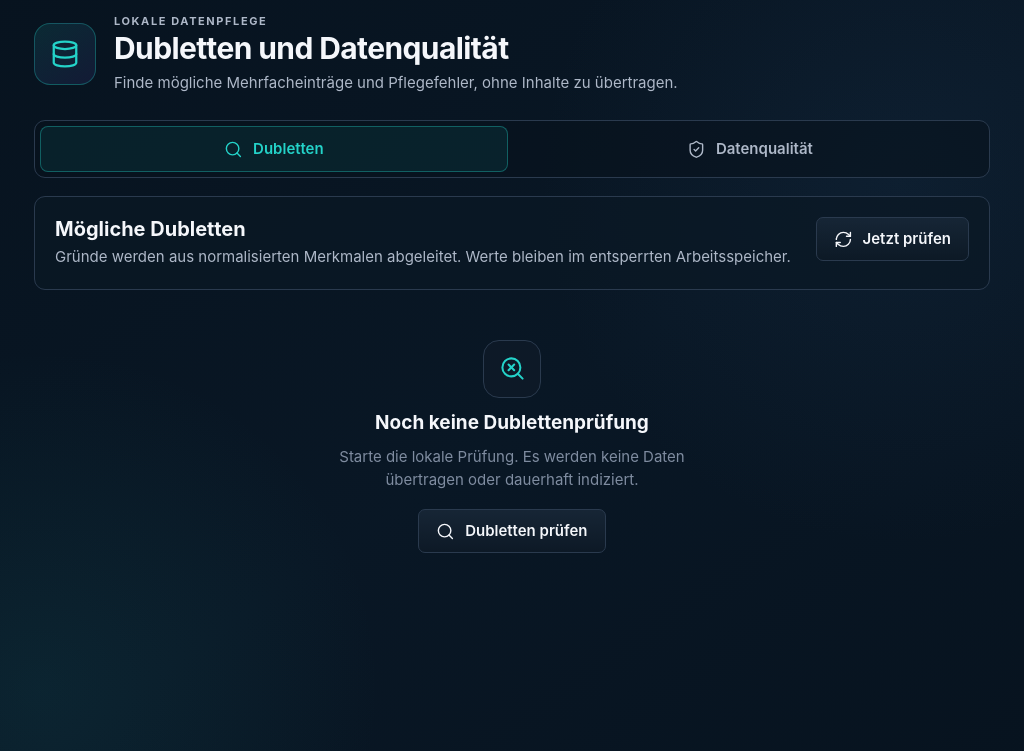
Test case: DataQualityViews › übermittelt die gewählten Skalar- und Collection-Quellen erst nach Merge-Bestätigung
Click the button "Dubletten prüfen".
click(512, 531)  # box x1=418 y1=509 x2=606 y2=553
(page scrolled)
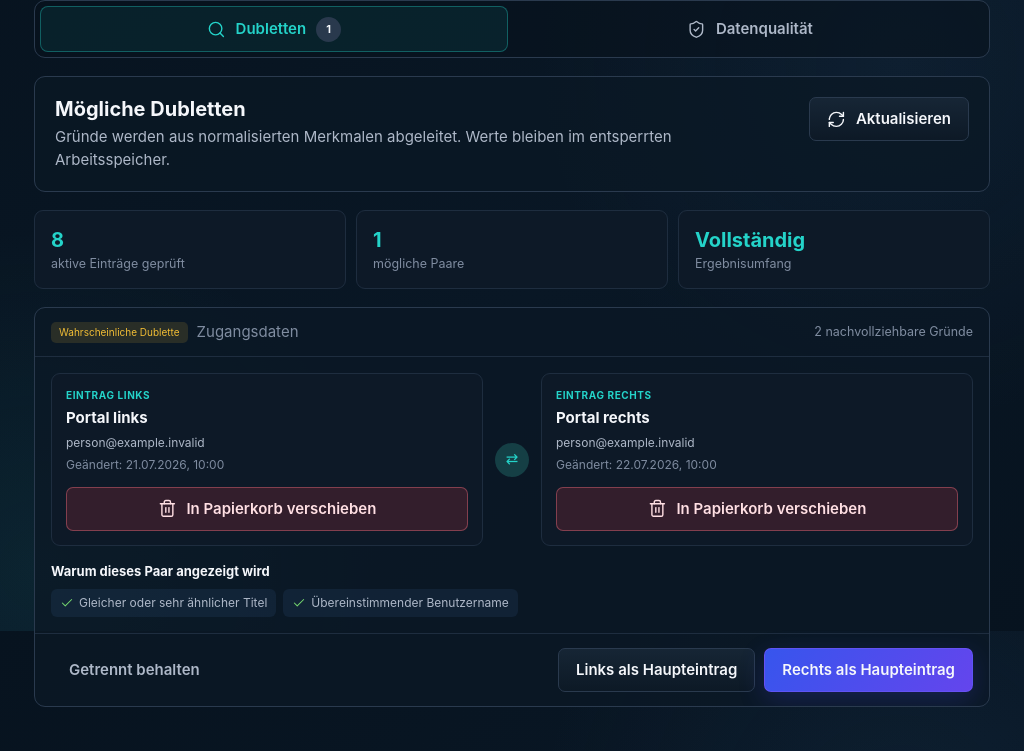
Click the button "Links als Haupteintrag".
click(657, 670)  # box x1=558 y1=648 x2=755 y2=692
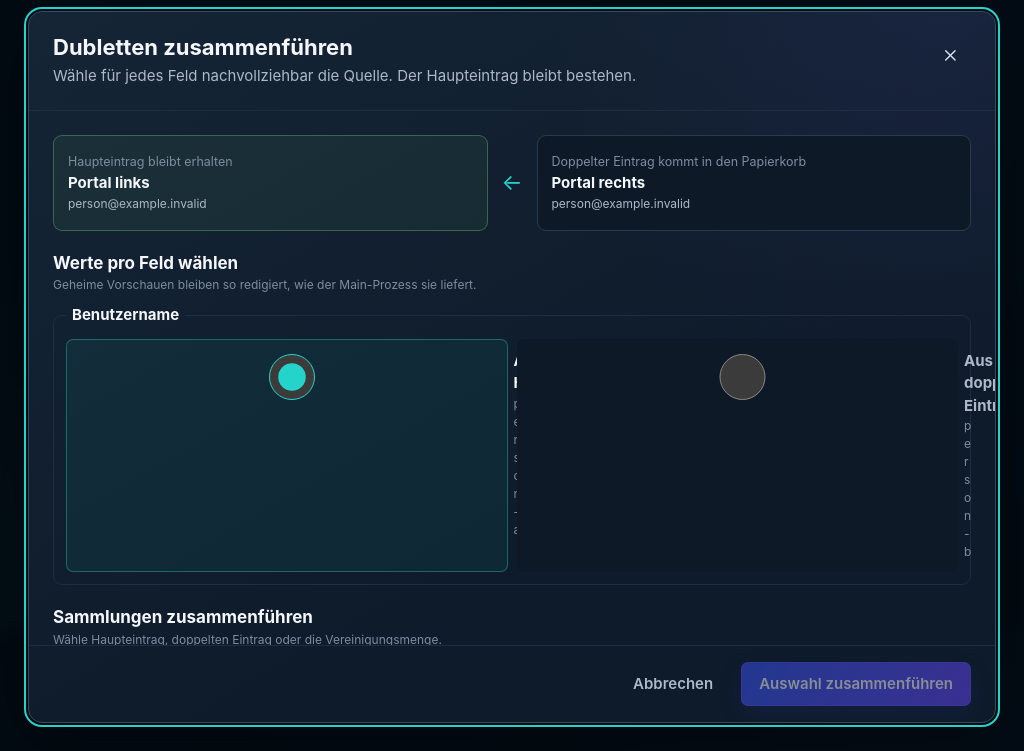
Now the button "Auswahl zusammenführen" is disabled, box x1=741 y1=662 x2=971 y2=706
Click the 2nd radio button named "Aus doppeltem Eintrag".
click(742, 377)  # box x1=532 y1=354 x2=952 y2=400
(page scrolled)
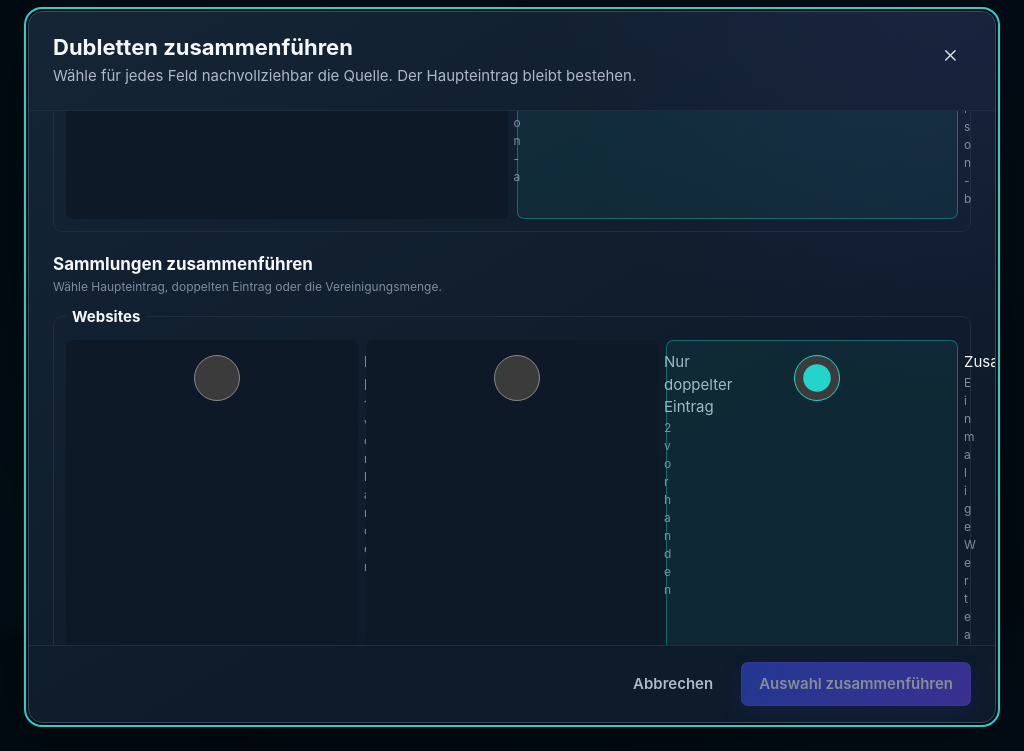
Click the 2nd radio button named "Nur doppelter Eintrag".
click(517, 378)  # box x1=382 y1=355 x2=652 y2=401
(page scrolled)
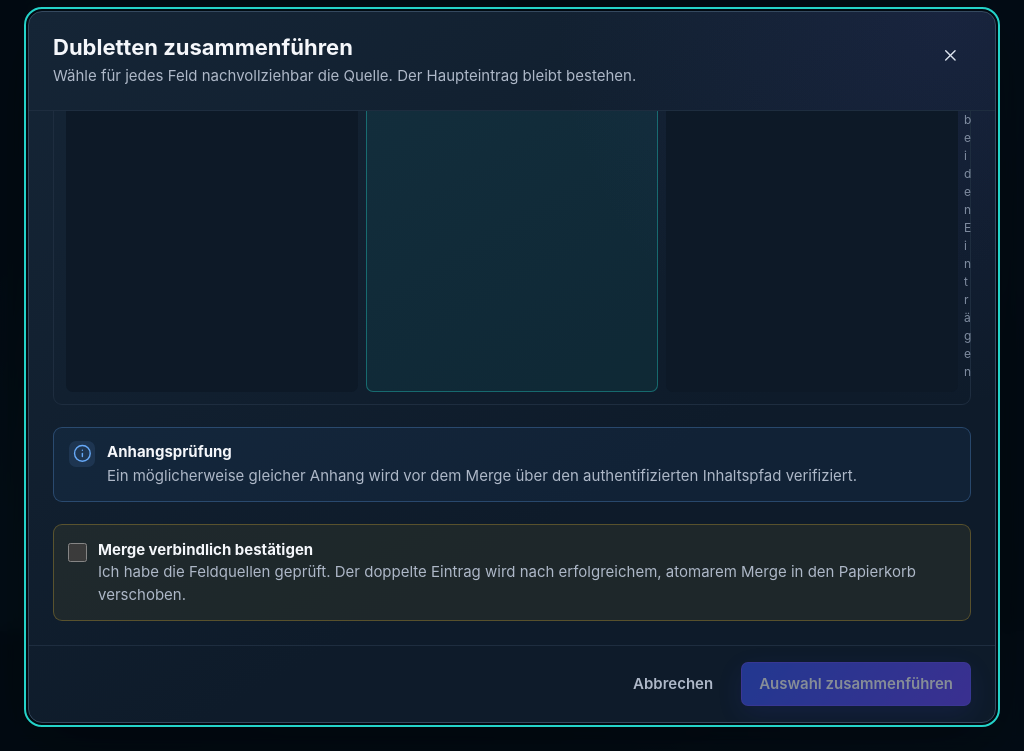
Click the checkbox labelled "Merge verbindlich bestätigen".
click(78, 552)  # box x1=68 y1=543 x2=87 y2=562
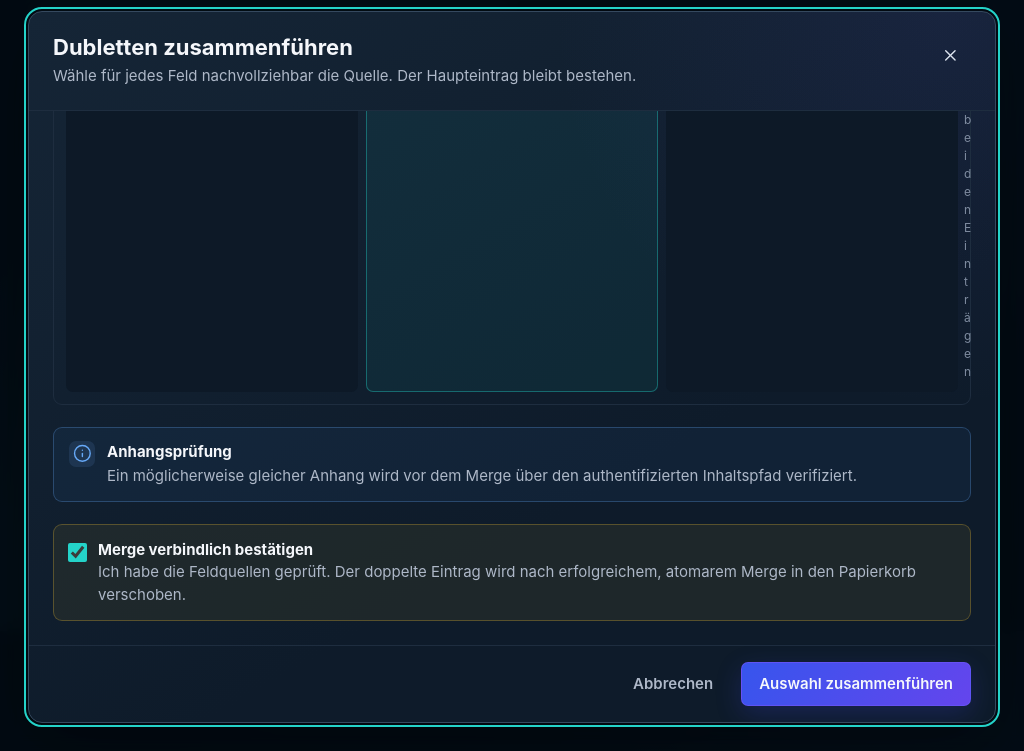
Click the button "Auswahl zusammenführen".
click(856, 684)  # box x1=741 y1=662 x2=971 y2=706
(page scrolled)
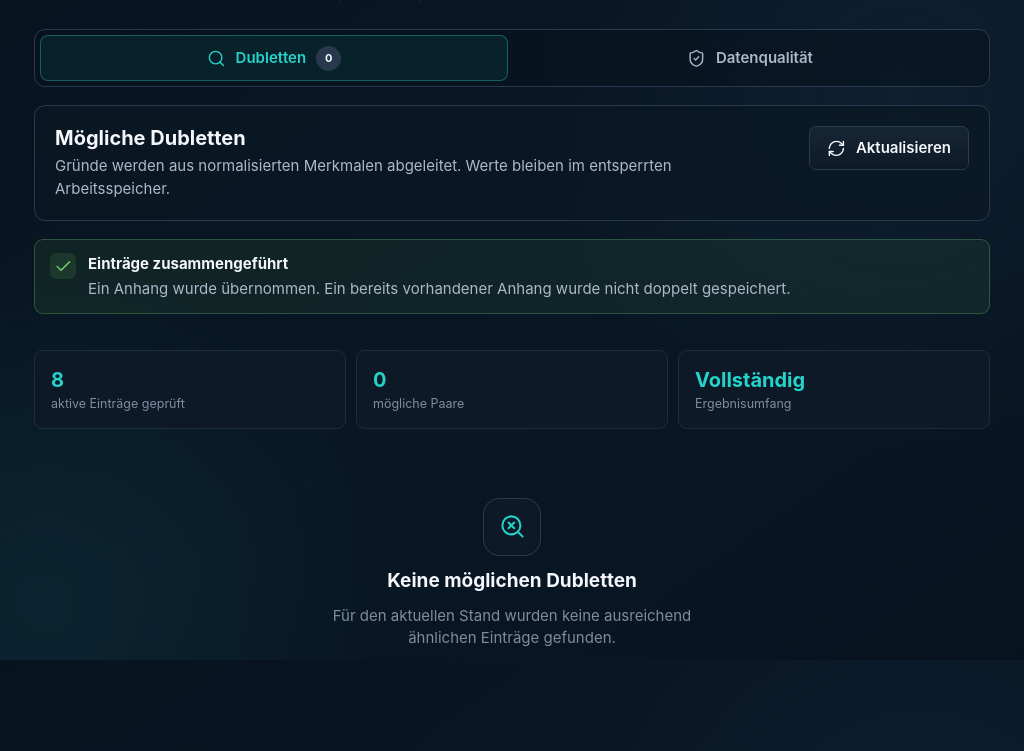
Now the text "Einträge zusammengeführt" is shown, box x1=88 y1=254 x2=288 y2=273
